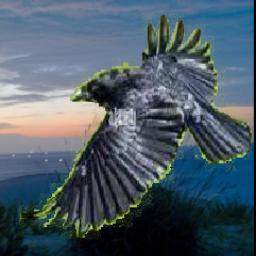Crow: (18, 12, 253, 239)
